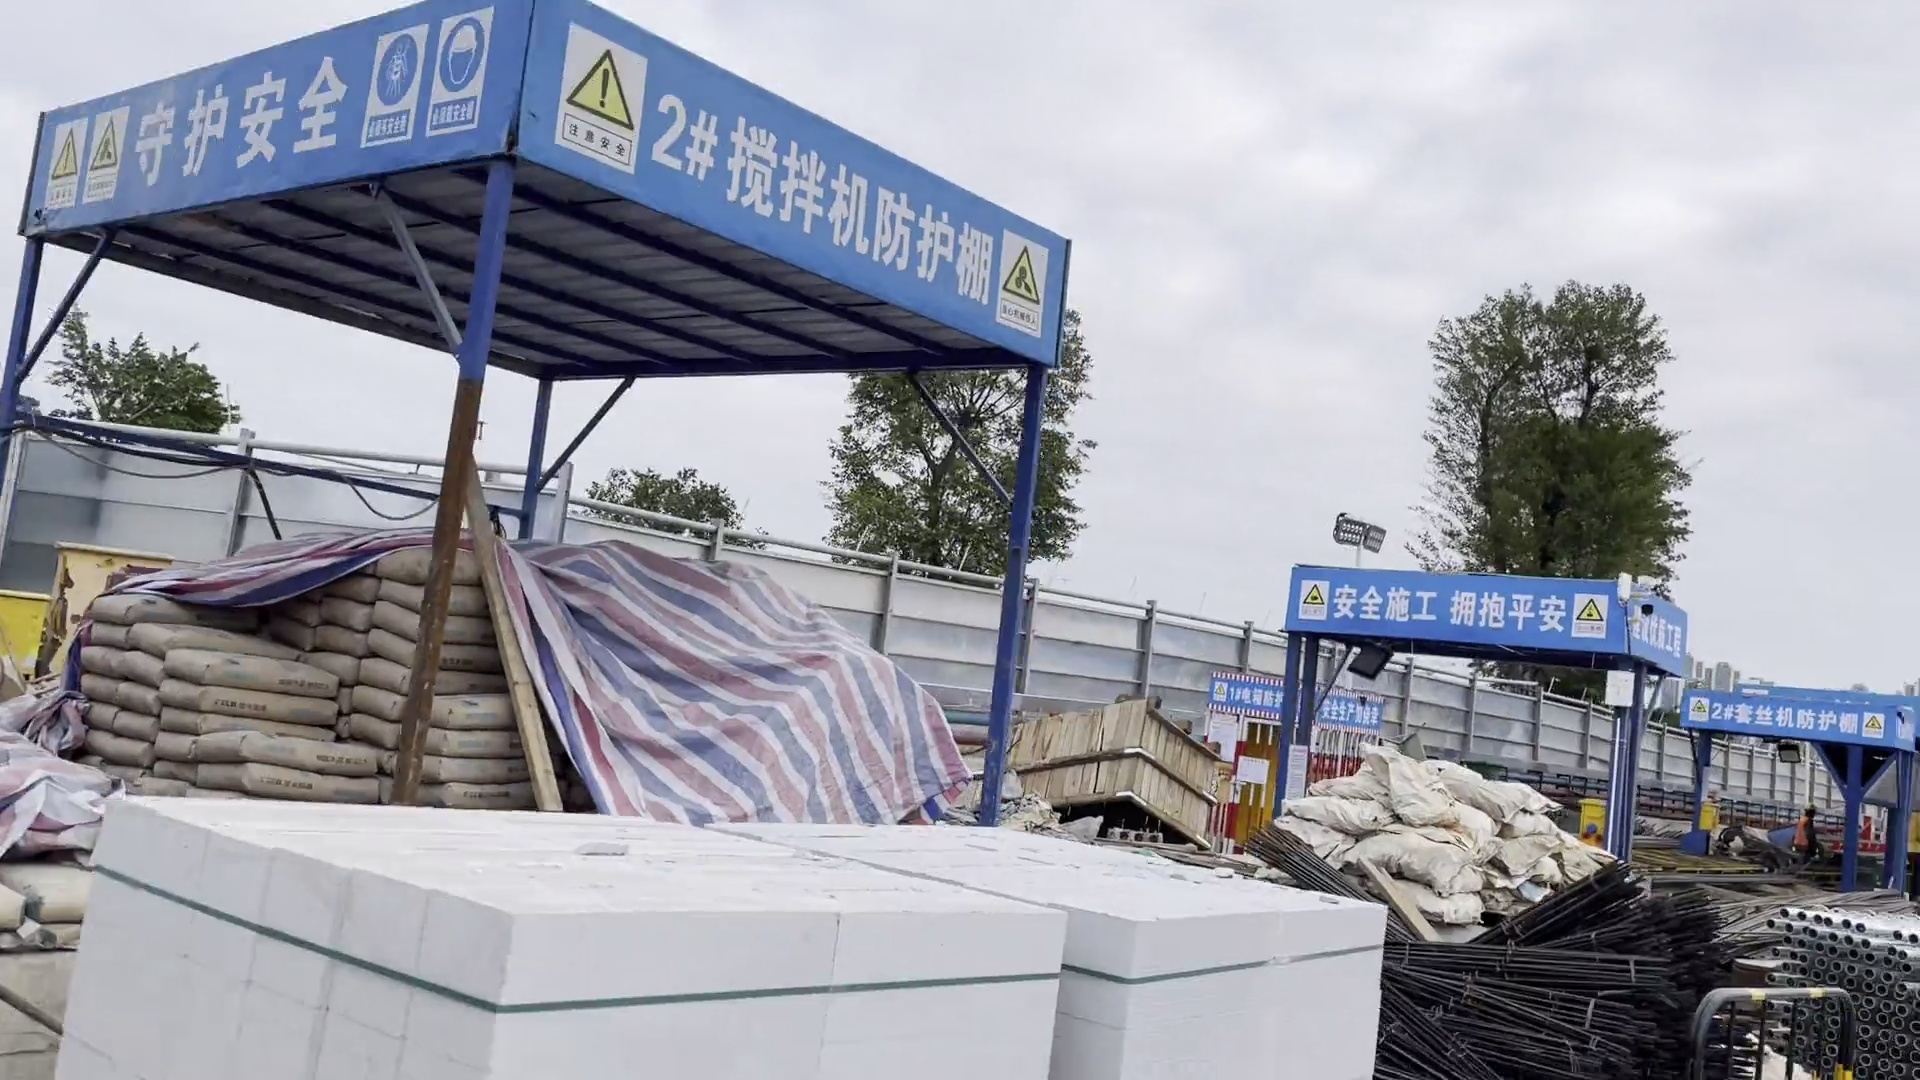brick: (22, 806, 1391, 1080)
ebox: (42, 542, 177, 684), (1, 597, 51, 690), (1569, 795, 1606, 853), (1700, 800, 1722, 837)
scaffold: (1767, 893, 1920, 1069)
slogan: (129, 37, 359, 189), (1325, 578, 1589, 636)
